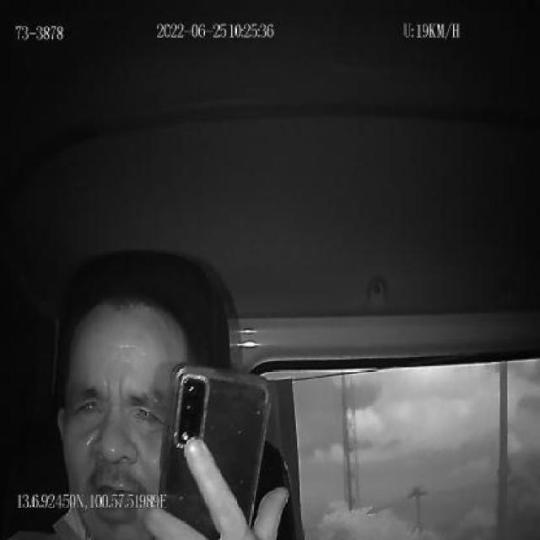phone: (161, 363, 270, 540)
